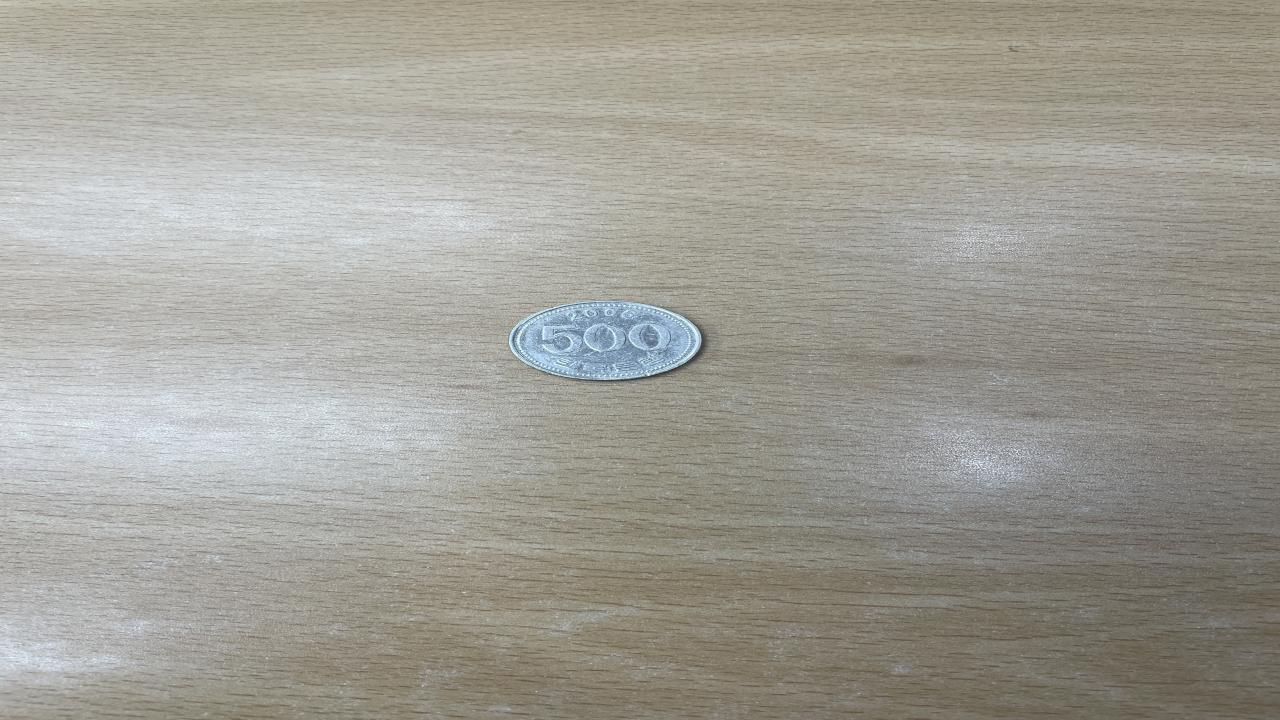coin: (504, 298, 708, 381)
